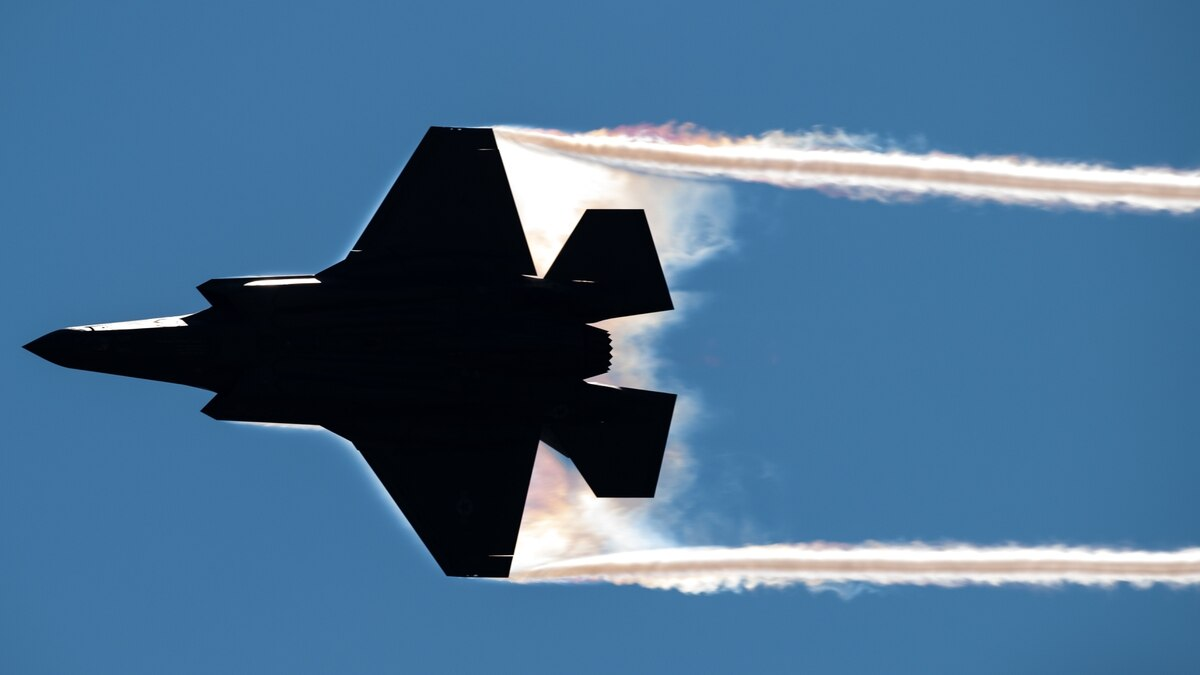F-35 Lightning: (25, 71, 716, 634)
